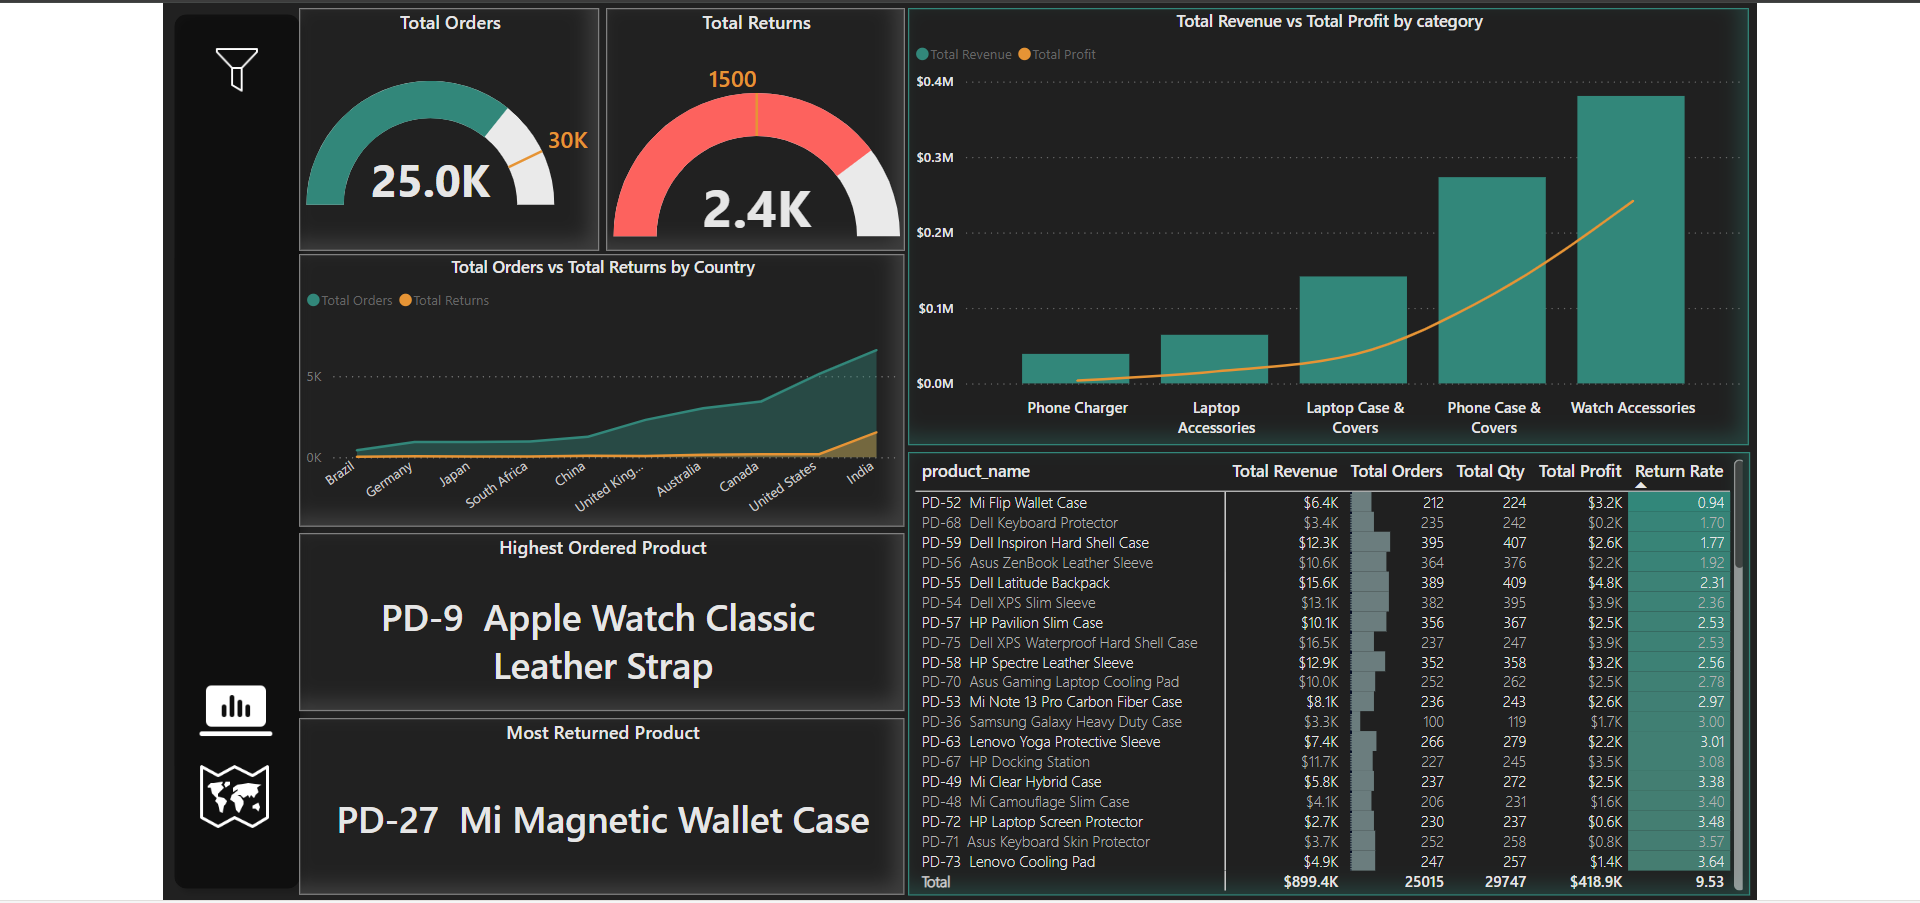

What the dashboard file says about the page in this screenshot:
{"tool":"powerbi","page":{"name":"Product Chart","canvas":[1280,720],"ordinal":2},"visuals":[{"type":"shape","title":"Filter section","box":[0,0,119,720],"z":0},{"type":"pivotTable","fields":{"Rows":["products.product_name"],"Values":["measure.Total Revenue","measure.Total Orders","Sum(sales_combined.qty)","measure.Total Profit","measure.Return Rate"]},"box":[598.2,359.9,676,356],"z":0,"group":"g2"},{"type":"card","title":"Highest Ordered Product","fields":{"Values":["measure.topN products"]},"box":[108.9,425.2,486,142.9],"z":0,"group":"g1"},{"type":"gauge","fields":{"Y":["measure.Total Returns"]},"box":[355,3.9,240,194.5],"z":1000,"group":"g1"},{"type":"lineClusteredColumnComboChart","title":"Total Revenue vs Total Profit by category","fields":{"Category":["products.category"],"Y":["measure.Total Revenue"],"Y2":["measure.Total Profit"]},"box":[598.2,3.9,675,351],"z":1000,"group":"g2"},{"type":"image","title":"Filter Icon","box":[35,25.3,47.7,56.4],"z":1000},{"type":"gauge","fields":{"Y":["measure.Total Orders"]},"box":[108.9,4,241.2,194.5],"z":2000,"group":"g1"},{"type":"image","title":"Dashboard icon","box":[15.8,531.2,85.7,71],"z":2000},{"type":"card","title":"Most Returned Product","fields":{"Values":["measure.topN returning product"]},"box":[108.9,573.9,486,142],"z":3000,"group":"g1"},{"type":"image","title":"Map icon","box":[14.7,602.2,86.8,69.9],"z":3000},{"type":"group","id":"g1","title":"Left Side Charts","box":[108.9,3.9,486.1,712],"z":4000},{"type":"areaChart","title":"Total Orders vs Total Returns by Country","fields":{"Category":["country.country"],"Y":["measure.Total Orders","measure.Total Returns"]},"box":[108.9,201.3,486,218.8],"z":4000,"group":"g1"},{"type":"group","id":"g2","title":"Right Side Charts","box":[598.2,3.9,676,712],"z":5000}]}

Visuals, with their boxes on the page's 1280x720 design canvas (x1, y1, x2, y2). These are canvas units, not pixel positions in the 1920x903 screenshot, which may show the page scaled, cropped or inside an application window:
"Filter section" shape: <region>0, 0, 119, 720</region>
pivotTable - products.product_name x measure.Total Revenue: <region>598, 360, 1274, 716</region>
"Highest Ordered Product" card: <region>109, 425, 595, 568</region>
gauge - measure.Total Returns: <region>355, 4, 595, 198</region>
"Total Revenue vs Total Profit by category" lineClusteredColumnComboChart: <region>598, 4, 1273, 355</region>
"Filter Icon" image: <region>35, 25, 83, 82</region>
gauge - measure.Total Orders: <region>109, 4, 350, 198</region>
"Dashboard icon" image: <region>16, 531, 102, 602</region>
"Most Returned Product" card: <region>109, 574, 595, 716</region>
"Map icon" image: <region>15, 602, 102, 672</region>
"Left Side Charts" group: <region>109, 4, 595, 716</region>
"Total Orders vs Total Returns by Country" areaChart: <region>109, 201, 595, 420</region>
"Right Side Charts" group: <region>598, 4, 1274, 716</region>
